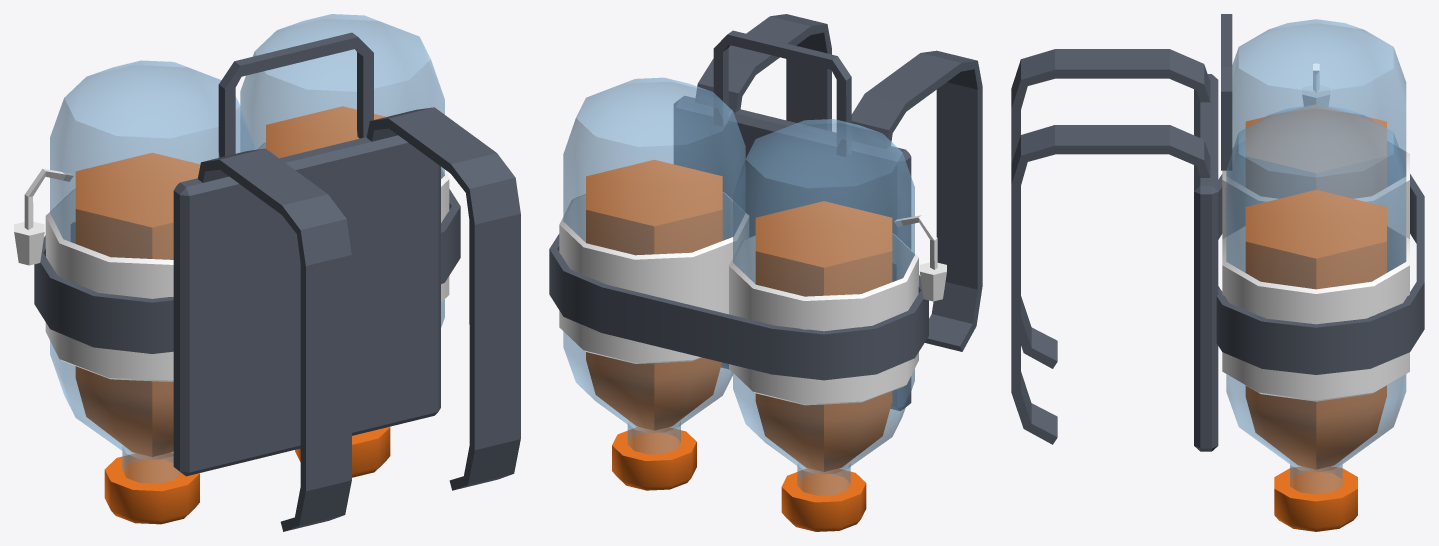
The model's file is propulseur_soda.fbx.
3 views of the same model, side by side, from view 1: azimuth 30°, elevation 25°; view 2: azimuth 150°, elevation 25°; view 3: azimuth 270°, elevation 25° (orthographic). The views are drawn at different scales.
Visible parts, largest first — view 1: propulseur_soda_Sangles, propulseur_soda_Bouteilles, propulseur_soda_Soda, propulseur_soda_Etiquettes; view 2: propulseur_soda_Bouteilles, propulseur_soda_Sangles, propulseur_soda_Soda, propulseur_soda_Etiquettes; view 3: propulseur_soda_Bouteilles, propulseur_soda_Sangles, propulseur_soda_Soda, propulseur_soda_Etiquettes.
Part boxes in pixels (x1,y1,x2,y2): propulseur_soda_Sangles: [34, 32, 520, 531]; propulseur_soda_Bouteilles: [50, 14, 444, 483]; propulseur_soda_Soda: [75, 106, 390, 524]; propulseur_soda_Etiquettes: [14, 142, 449, 381]; propulseur_soda_Bouteilles: [563, 77, 914, 495]; propulseur_soda_Sangles: [549, 14, 982, 410]; propulseur_soda_Soda: [586, 159, 892, 531]; propulseur_soda_Etiquettes: [559, 192, 946, 405]; propulseur_soda_Bouteilles: [1226, 19, 1406, 494]; propulseur_soda_Sangles: [1011, 14, 1424, 451]; propulseur_soda_Soda: [1245, 104, 1386, 531]; propulseur_soda_Etiquettes: [1222, 48, 1409, 401].
Size of the model in its own units: 2.8 by 2.92 by 2.53.
